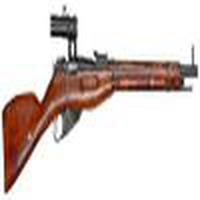gun: (4, 9, 197, 195)
